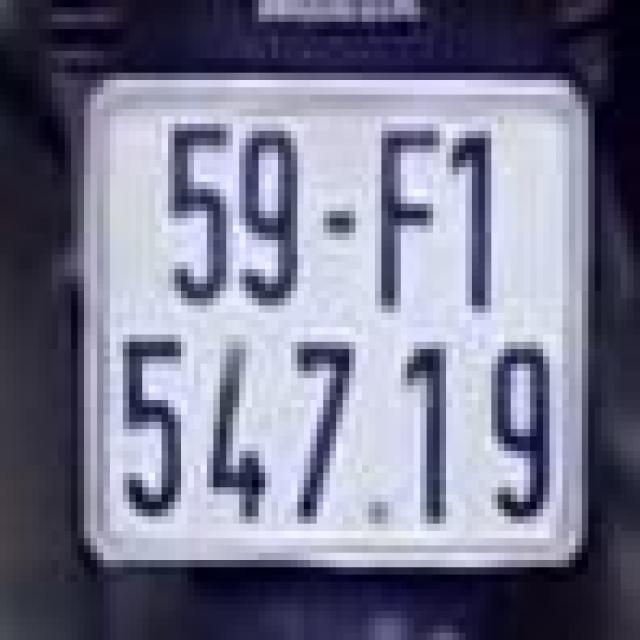1: (394, 335, 466, 538), (446, 120, 511, 324)
4: (197, 331, 275, 527)
5: (104, 324, 188, 527), (155, 113, 233, 309)
7: (281, 324, 365, 527)
9: (482, 331, 566, 527), (233, 113, 310, 316)
F: (362, 113, 446, 316)
